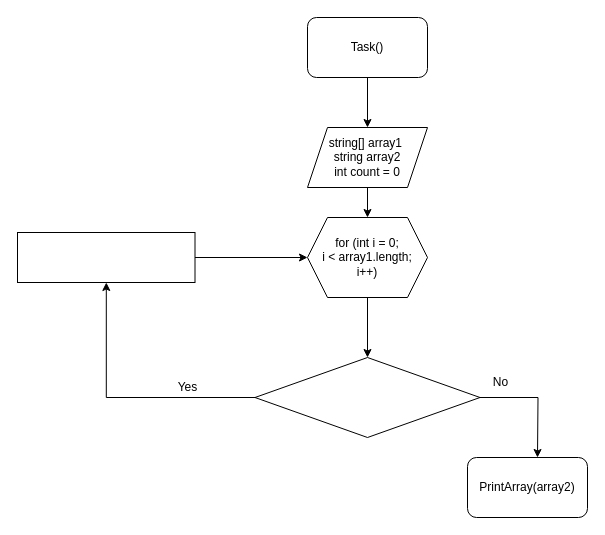
This 605x535 diagram has some shape labels left out. The shapes that lost their labels are listed below. From the top down, each one's centre as x and y in pixels, then its label:
At (105,257): "array2[count] = array1[i] count++;".
At (367,397): "if (array1[i].length <= 3)".
